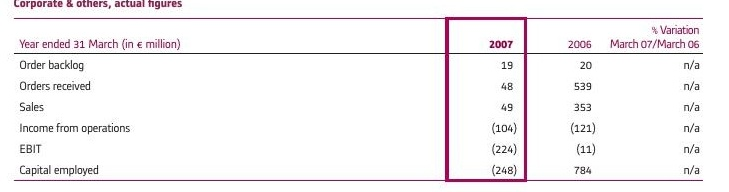table: (0, 0, 729, 192)
